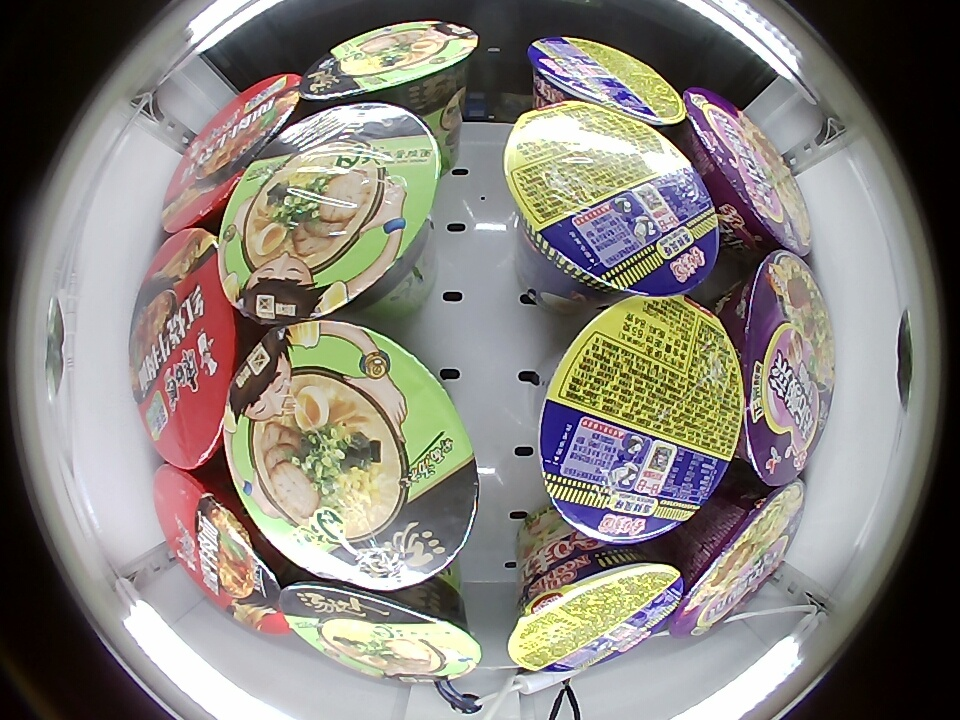heweidao: (538, 294, 743, 543), (503, 101, 719, 298), (507, 543, 682, 672), (529, 35, 686, 127)
hongshaoniurou: (128, 226, 236, 468), (153, 465, 290, 635), (159, 73, 301, 235)
laotansuancai: (729, 248, 835, 486), (681, 87, 811, 257), (675, 479, 805, 632)
tangdaren: (223, 319, 480, 586), (218, 102, 441, 325), (281, 576, 484, 686), (304, 20, 478, 112)
